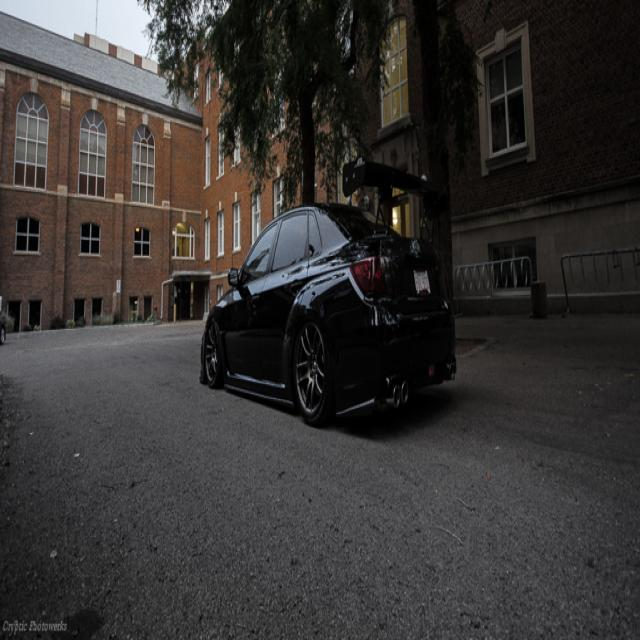car: (197, 158, 460, 426)
